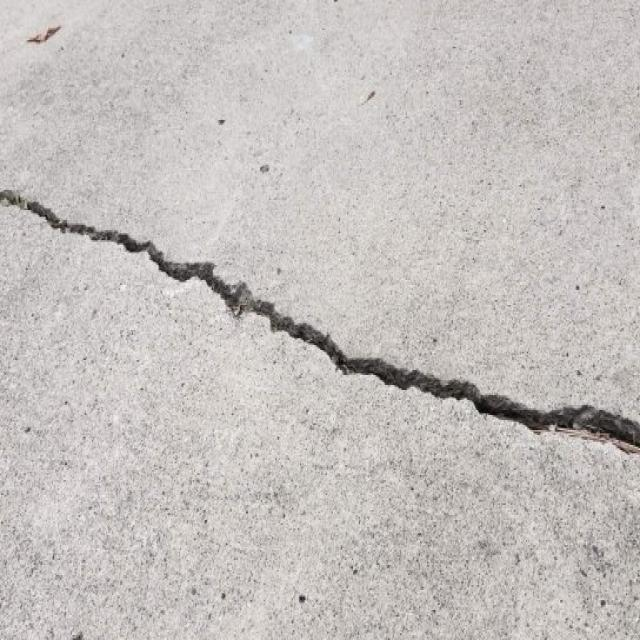Diagonal: (0, 180, 640, 462)
